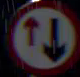Two way: (7, 0, 79, 76)
